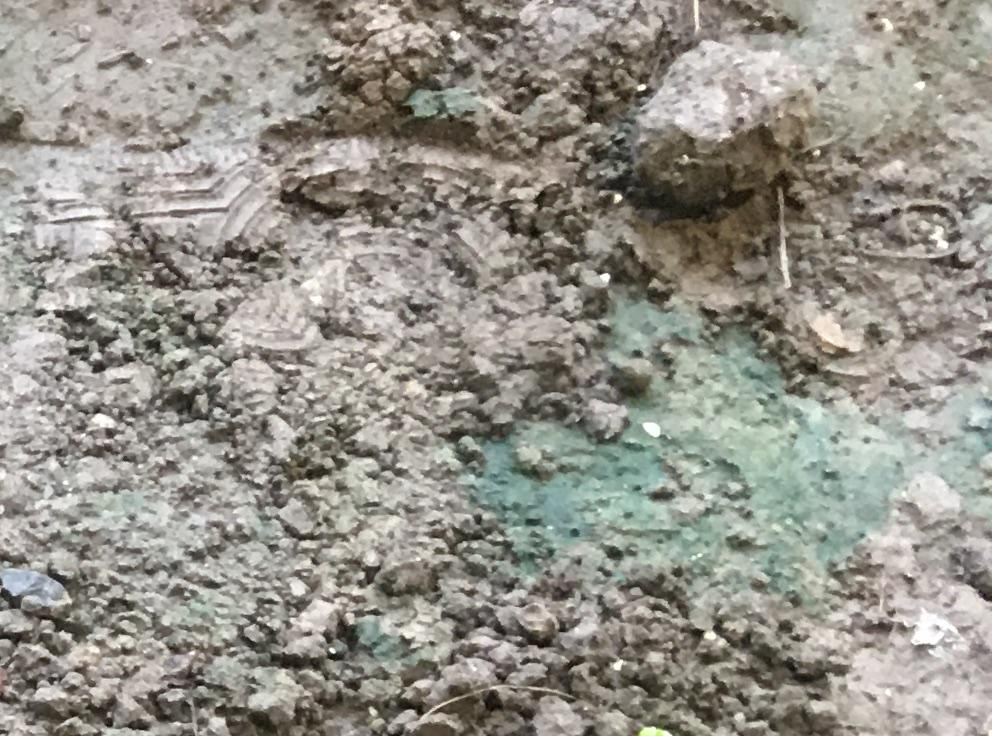block: (630, 38, 810, 203)
